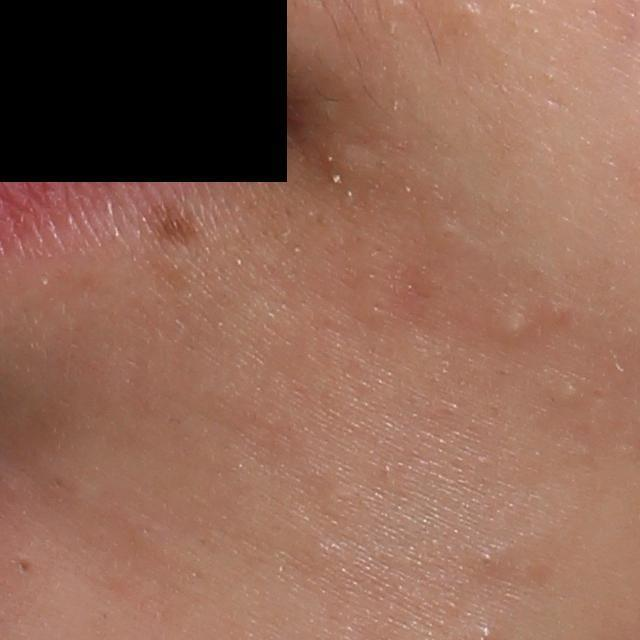comedo: (496, 300, 531, 344), (12, 554, 35, 577), (479, 550, 493, 567)
hypertrophic_scar: (317, 140, 386, 185)
nevus: (148, 199, 190, 241)
